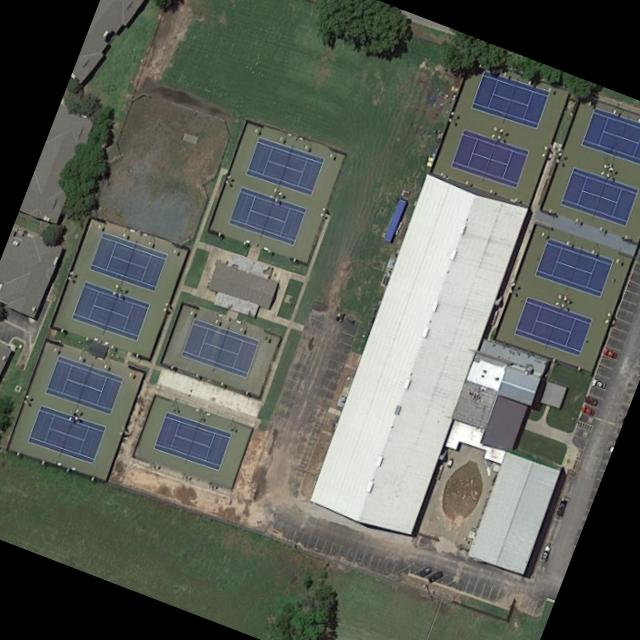small-vehicle: (556, 496, 568, 516), (429, 569, 444, 583), (419, 564, 433, 578), (602, 346, 618, 358), (541, 544, 552, 561), (590, 377, 607, 388), (580, 404, 595, 416), (584, 394, 599, 406)
